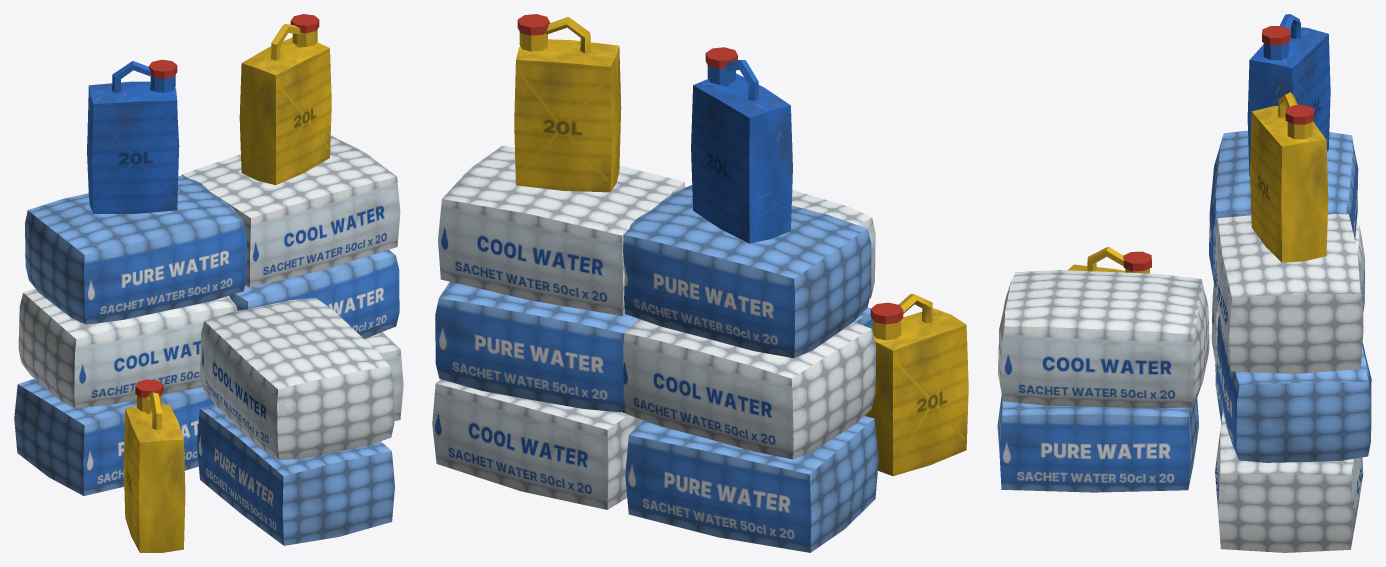
File: prop_soft_cartons.glb
3 views of the same model, side by side, from view 1: azimuth 30°, elevation 25°; view 2: azimuth 150°, elevation 25°; view 3: azimuth 270°, elevation 25° (orthographic). The views are drawn at different scales.
Visible parts, largest first — view 1: prop_soft_cartons_body; view 2: prop_soft_cartons_body; view 3: prop_soft_cartons_body.
Boxes of the visible parts, x1=… form: prop_soft_cartons_body: x1=14, y1=14, x2=403, y2=552; prop_soft_cartons_body: x1=432, y1=14, x2=968, y2=552; prop_soft_cartons_body: x1=997, y1=14, x2=1371, y2=552.
Size of the model in its own units: 0.8466 by 0.9455 by 0.763.
1 material, 1 textured.
